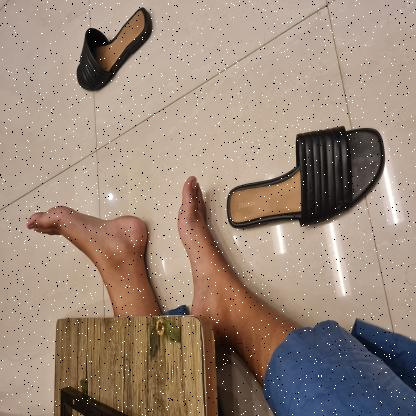leg: (173, 172, 289, 380), (23, 197, 160, 317)
